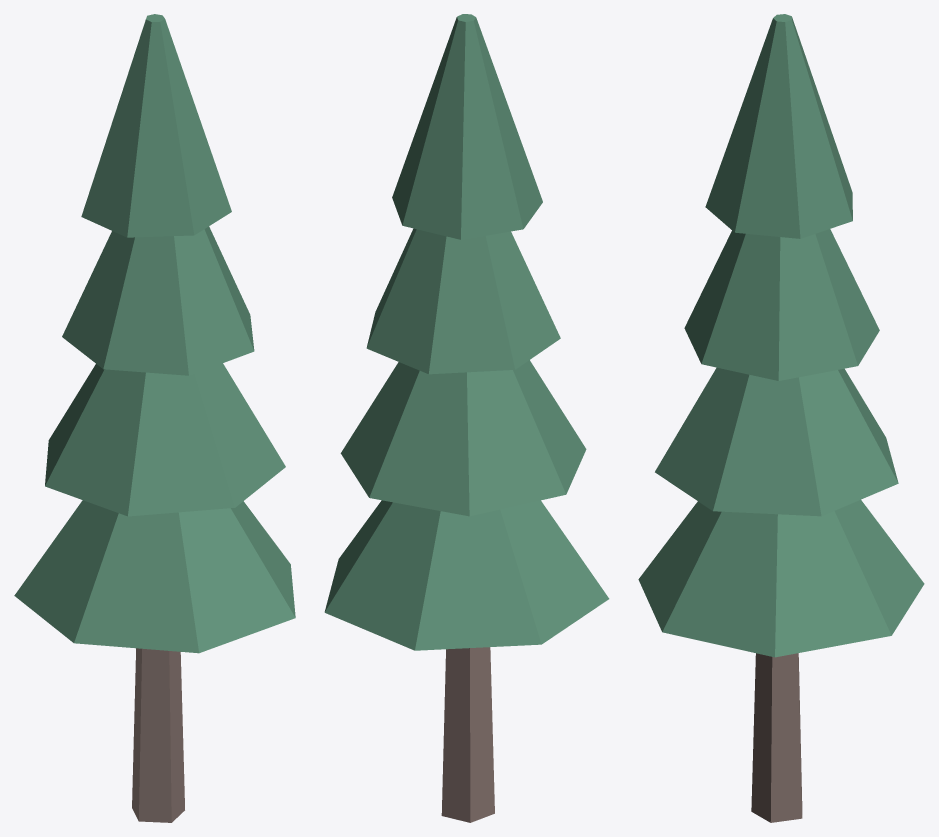
The model's file is arv_pinheiro_6_sem_textura.glb.
The picture shows the model from 3 angles, left to right: view 1: azimuth 30°, elevation 25°; view 2: azimuth 150°, elevation 25°; view 3: azimuth 270°, elevation 25°; orthographic projection.
Visible parts, largest first — view 1: arv_pinheiro_6; view 2: arv_pinheiro_6; view 3: arv_pinheiro_6.
Part boxes in pixels (x1,y1,x2,y2): arv_pinheiro_6: (14,14,295,822); arv_pinheiro_6: (324,14,609,822); arv_pinheiro_6: (638,14,924,822).
Bounding box in the file's own units: 0.8503 × 2.65 × 0.865.
